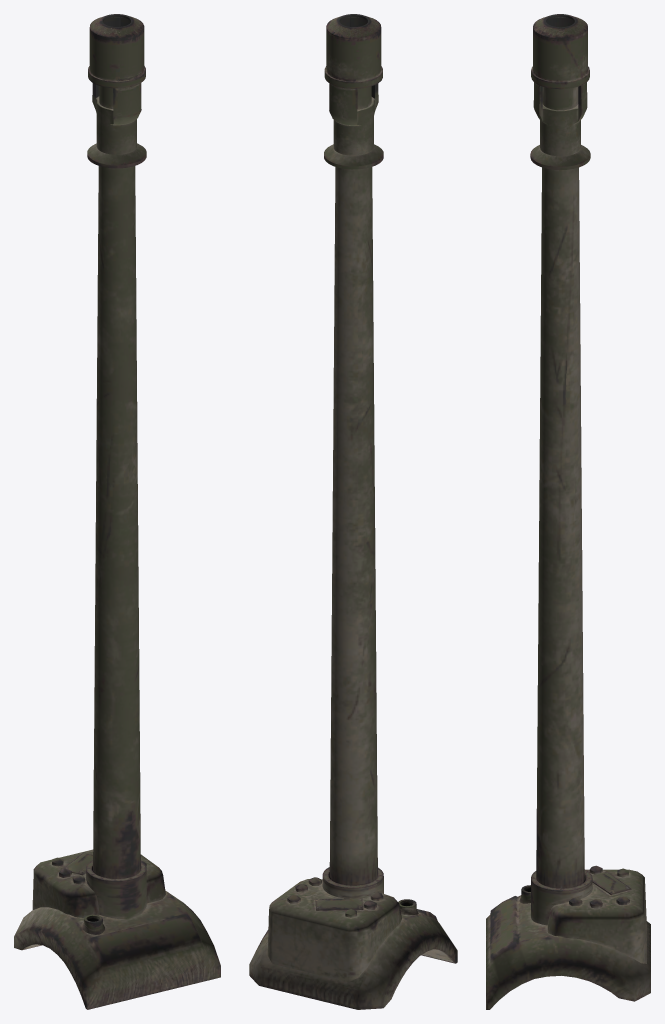
The model's file is Gun_01.glb.
The picture shows the model from 3 angles, left to right: view 1: azimuth 30°, elevation 25°; view 2: azimuth 150°, elevation 25°; view 3: azimuth 270°, elevation 25°; orthographic projection.
Visible parts, largest first — view 1: set_0_group_0; view 2: set_0_group_0; view 3: set_0_group_0.
Boxes of the visible parts, x1=… form: set_0_group_0: x1=14, y1=14, x2=220, y2=1009; set_0_group_0: x1=249, y1=14, x2=457, y2=1009; set_0_group_0: x1=486, y1=14, x2=650, y2=1009.
Size of the model in its own units: 0.8296 by 5.62 by 0.8792.
1 material, 1 textured.
